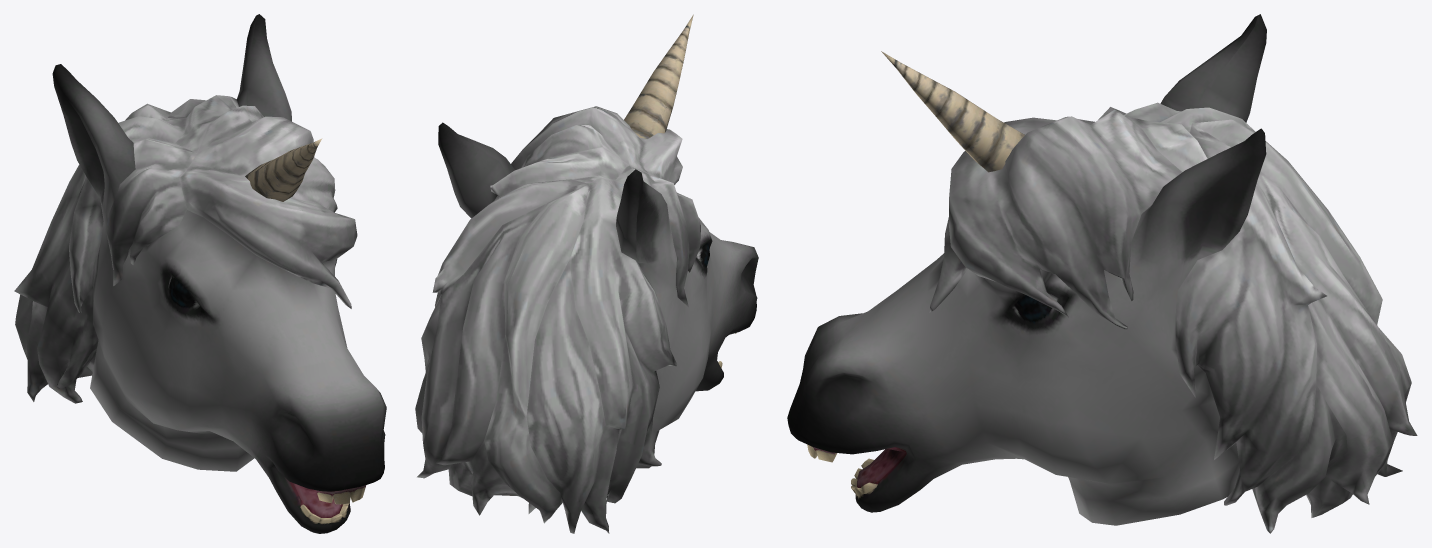
Rendered from SurvivorMale_Head_Mask_Unicorn_LOD0.glb.
The picture shows the model from 3 angles, left to right: view 1: azimuth 30°, elevation 25°; view 2: azimuth 150°, elevation 25°; view 3: azimuth 270°, elevation 25°; orthographic projection. The views are drawn at different scales.
Visible parts, largest first — view 1: Hoodie; view 2: Hoodie; view 3: Hoodie.
Part boxes in pixels (x1,y1,x2,y2): Hoodie: (14, 14, 386, 533); Hoodie: (415, 14, 758, 533); Hoodie: (787, 14, 1417, 533).
Size of the model in its own units: 0.2457 by 0.3951 by 0.4867.
Materials: 1 (1 with a texture image).
